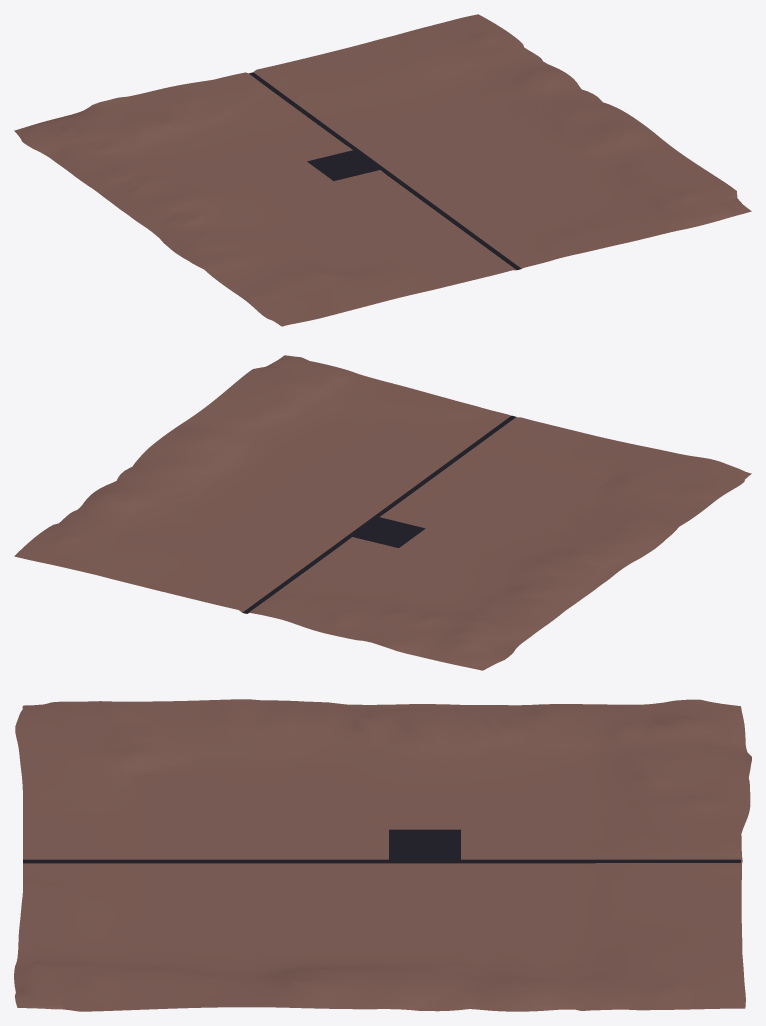
The model's file is Above_Ground_Base.fbx.
The picture shows the model from 3 angles, top to bottom: view 1: azimuth 30°, elevation 25°; view 2: azimuth 150°, elevation 25°; view 3: azimuth 270°, elevation 25°; orthographic projection. The views are drawn at different scales.
Parts seen in each view (by area): view 1: Plane, Cube, Cube.001; view 2: Plane, Cube, Cube.001; view 3: Plane, Cube, Cube.001.
Boxes of the visible parts, left/top/right/bottom form: Plane: left=14, top=14, right=751, bottom=326; Cube: left=249, top=72, right=521, bottom=269; Cube.001: left=307, top=150, right=379, bottom=180; Plane: left=14, top=355, right=751, bottom=670; Cube: left=243, top=415, right=515, bottom=613; Cube.001: left=352, top=517, right=425, bottom=547; Plane: left=14, top=699, right=751, bottom=1011; Cube: left=23, top=859, right=740, bottom=863; Cube.001: left=389, top=829, right=460, bottom=859.
Bounding box in the file's own units: 52016 × 839 × 51406.
